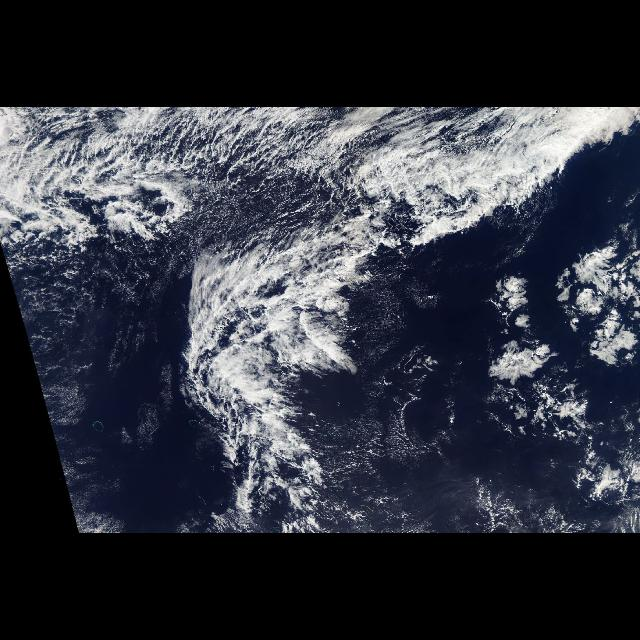Fish: (2, 109, 552, 534)
Flower: (482, 231, 638, 419)
Sugar: (16, 260, 172, 526), (309, 383, 459, 475)
